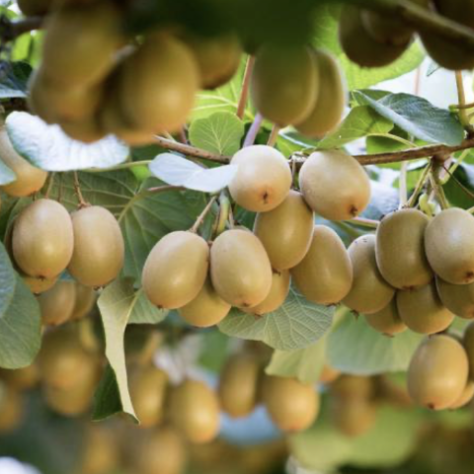kiwi: (370, 199, 449, 306), (140, 210, 217, 319), (56, 197, 134, 290), (298, 145, 377, 229), (197, 220, 273, 306), (404, 327, 474, 415), (11, 193, 74, 287)
